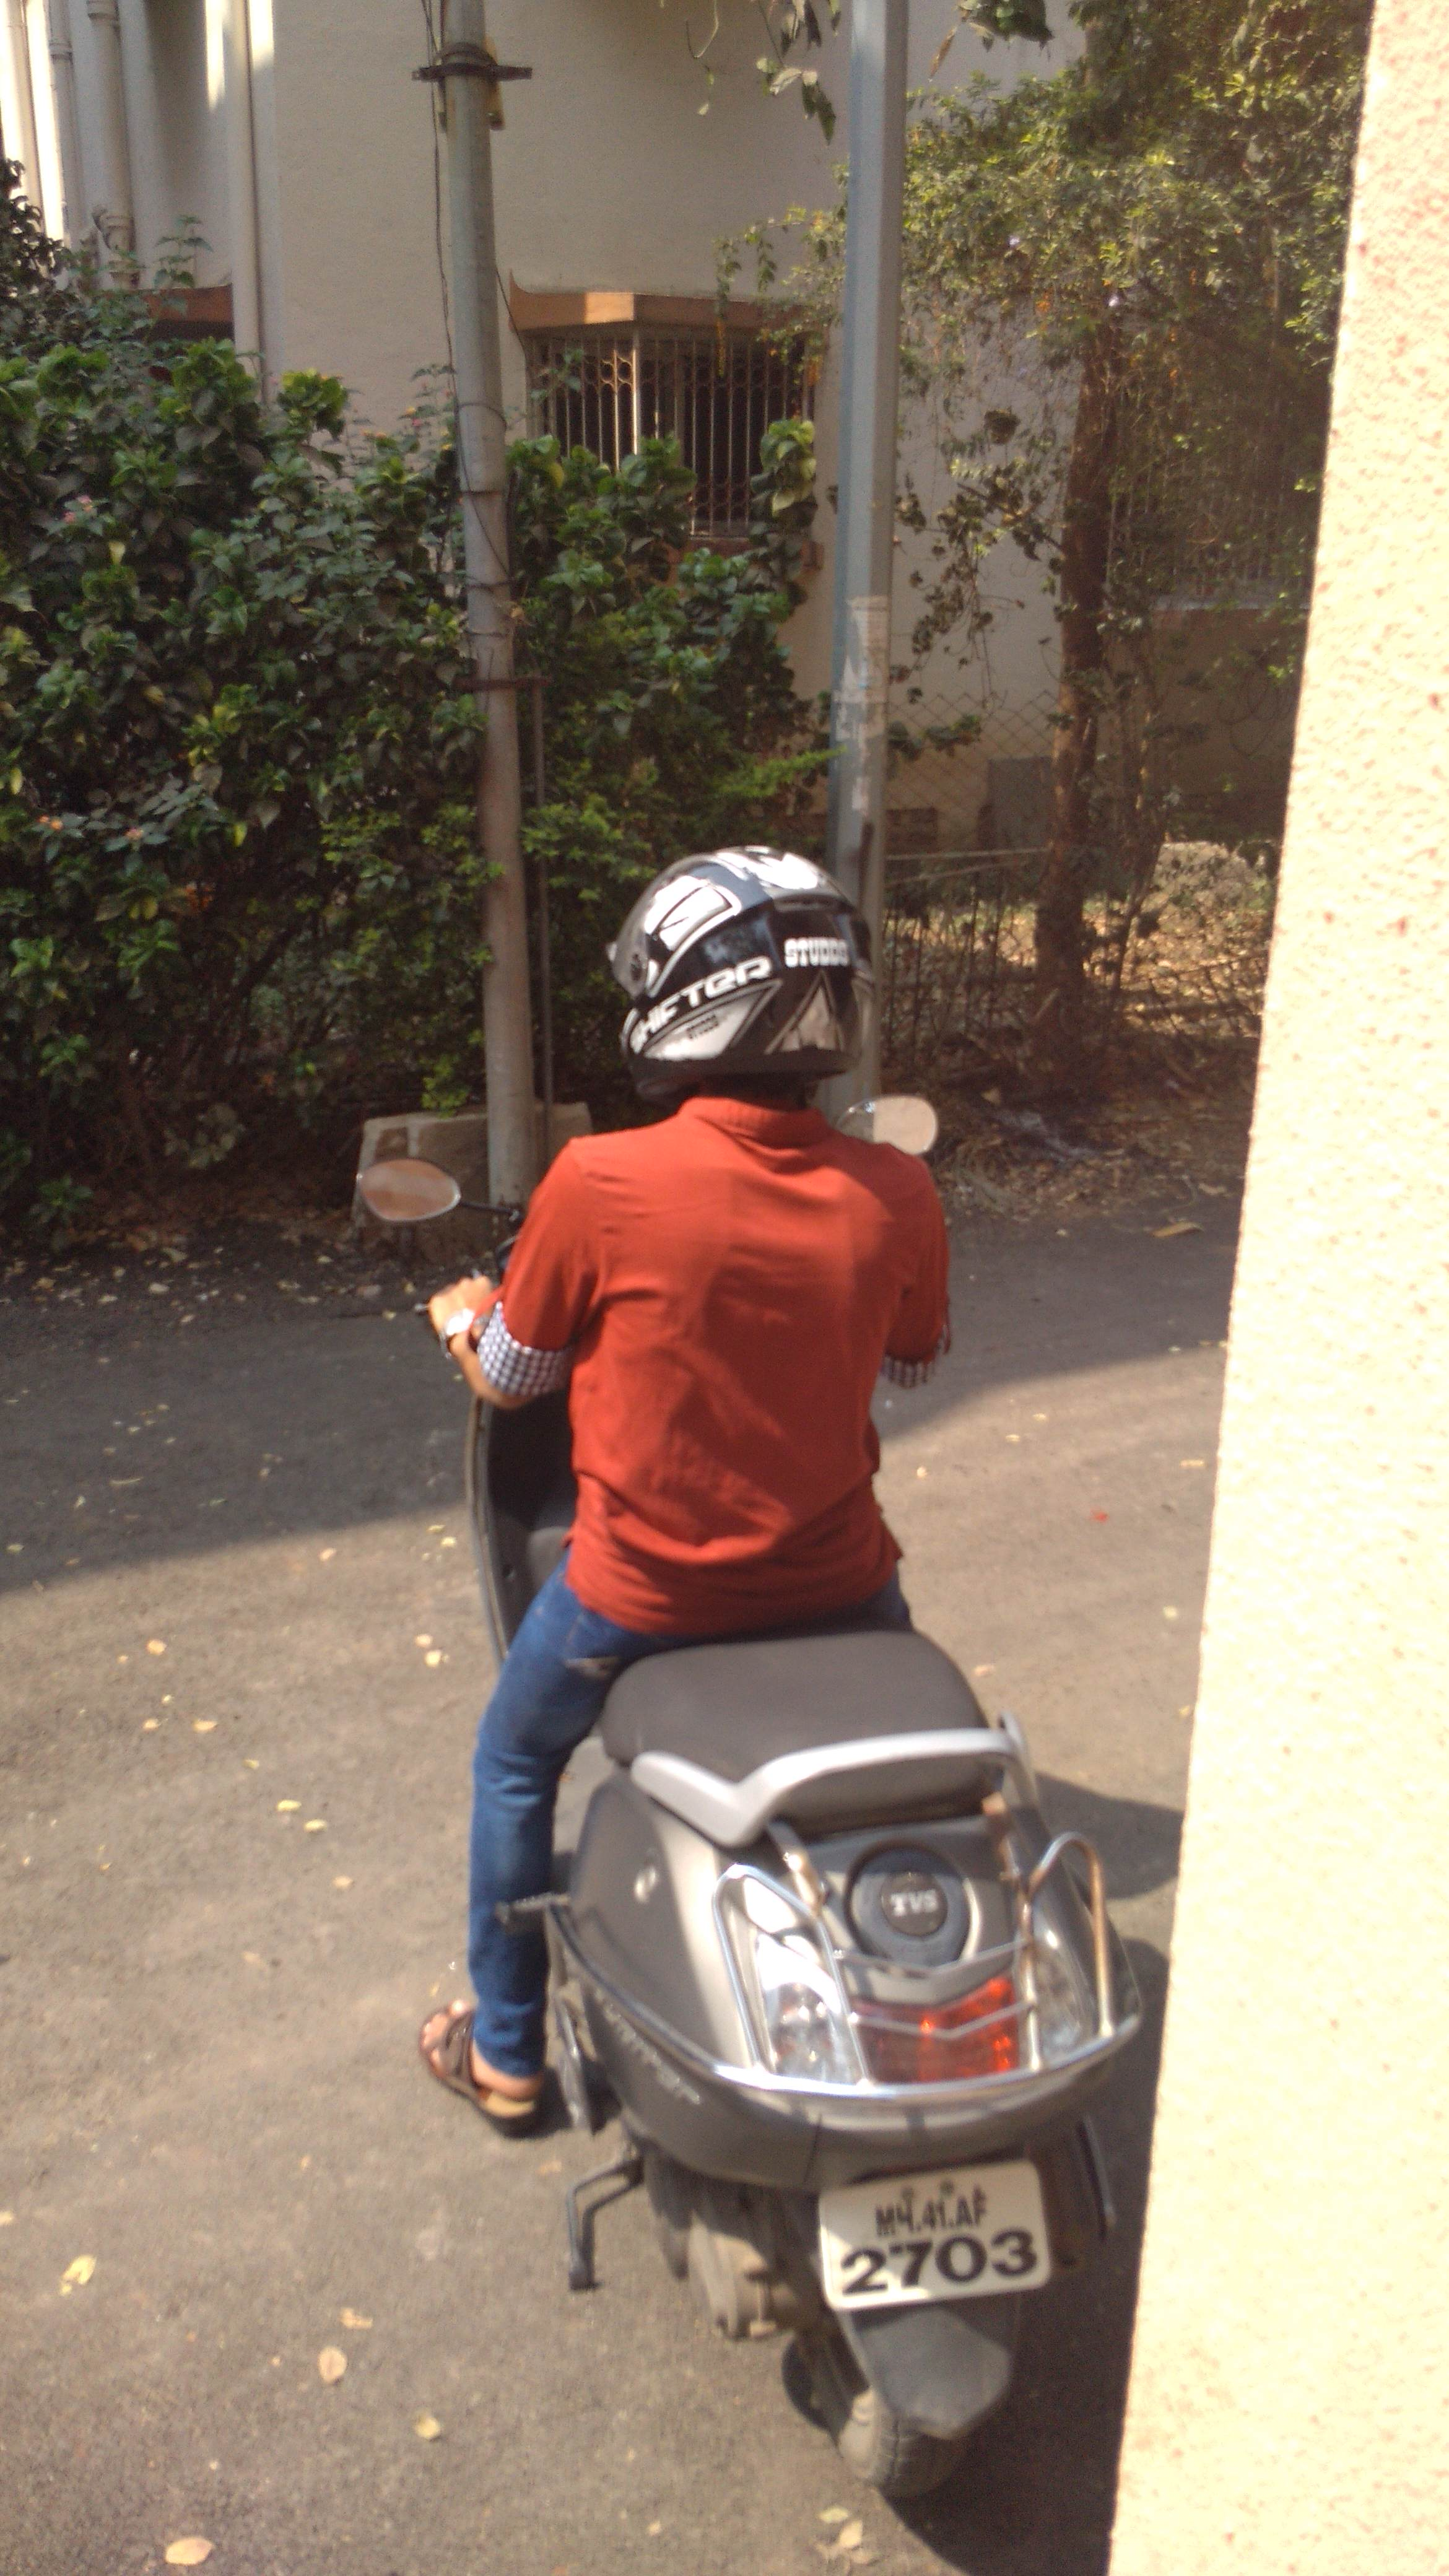helmet: (299, 833, 1104, 1734)
